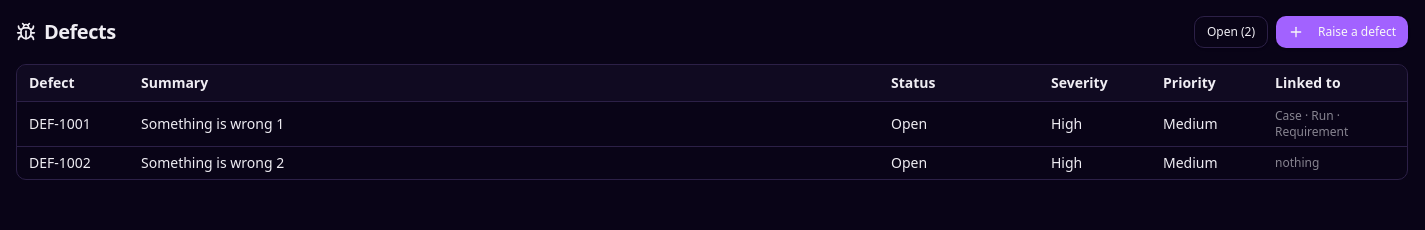
Test: the list › shows open defects and hides the closed ones, with a way to see them
Expected: the text "DEF-1001" is shown, [17,102,129,146]
Expected: the text "DEF-1002" is shown, [17,146,129,179]
Click the button "Open (2)". click: point(1231, 32)
box: [1194,16,1268,48]
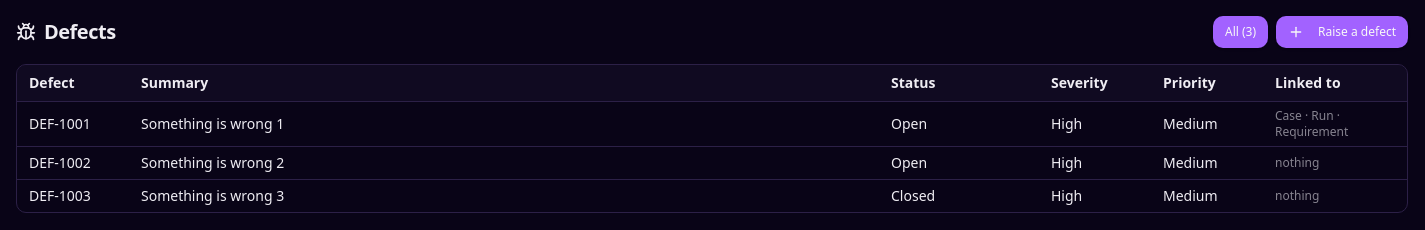
Result: the text "DEF-1003" is shown at [17,180,129,212]
